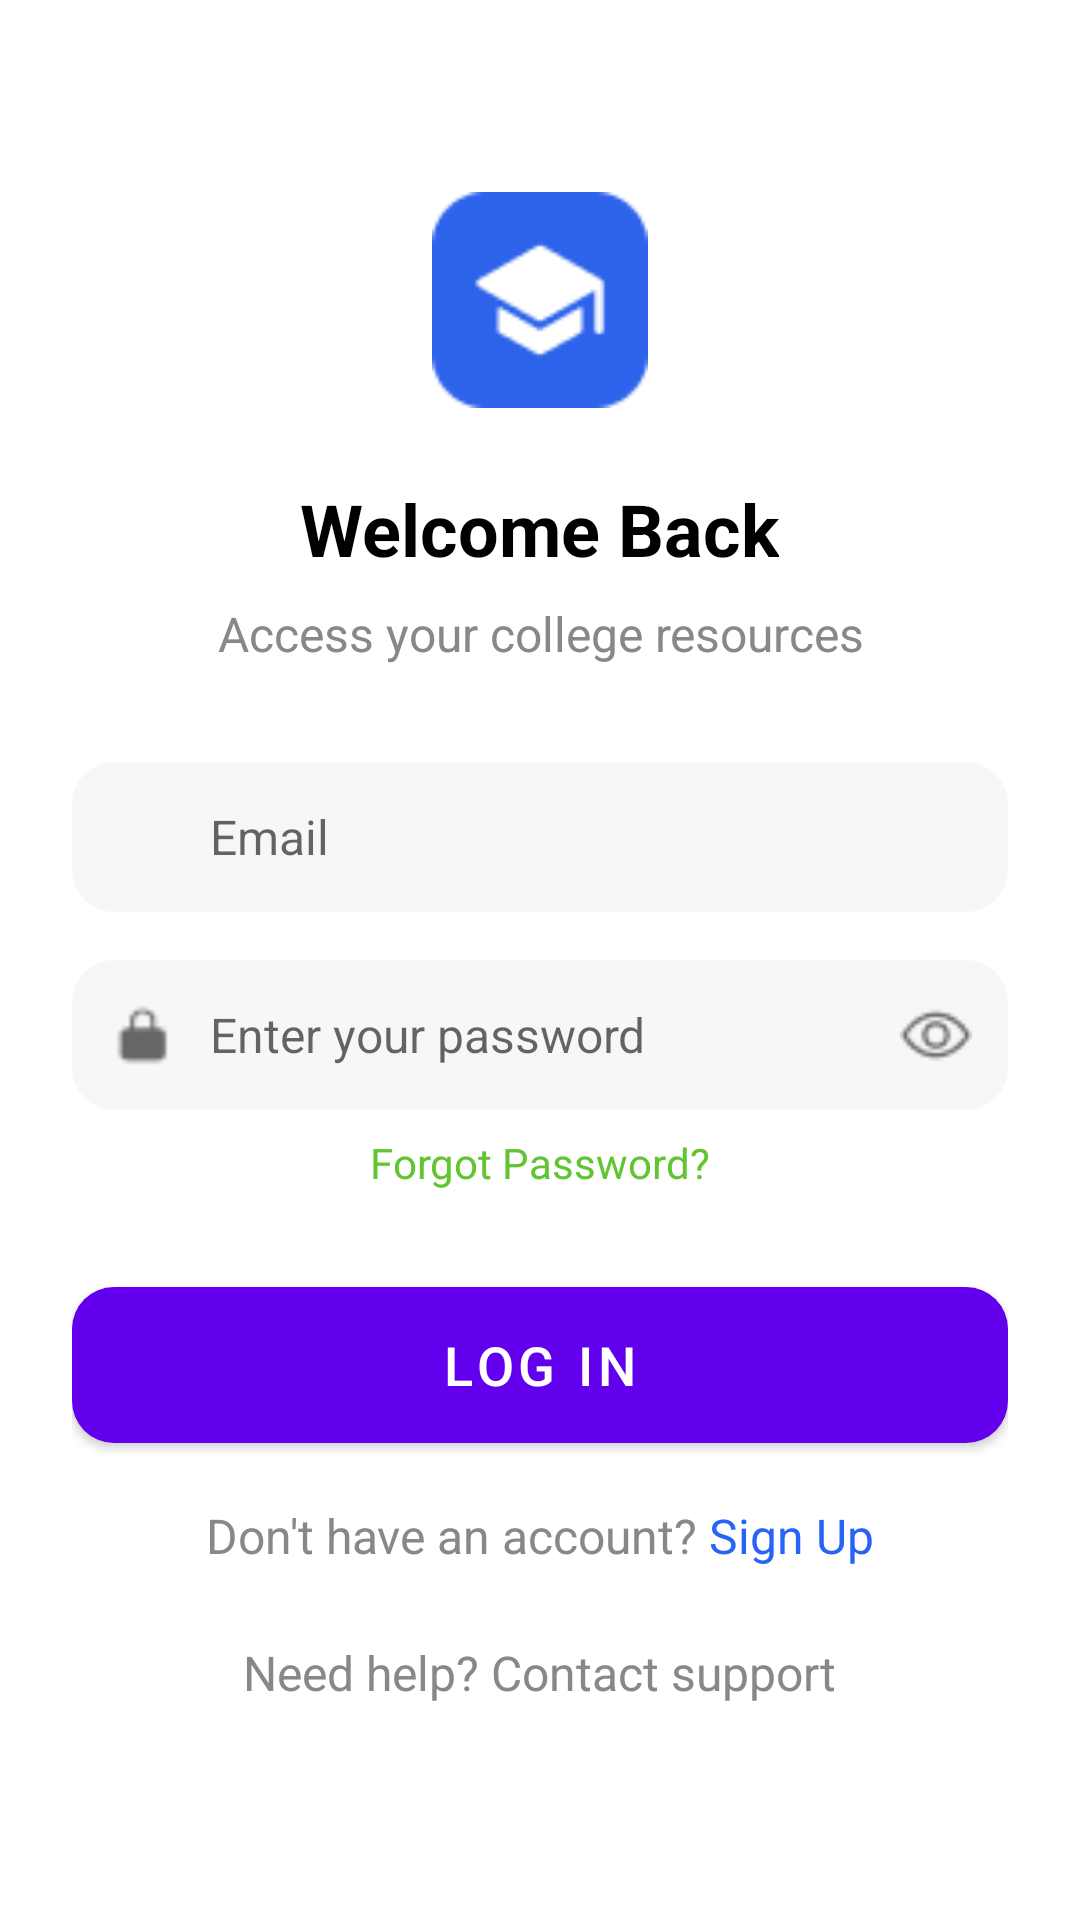

Icons on this 1080px×1920px Android screen, each with the point to tap as (x,y):
App Icon: (540,300)
Show Password: (936,1035)
